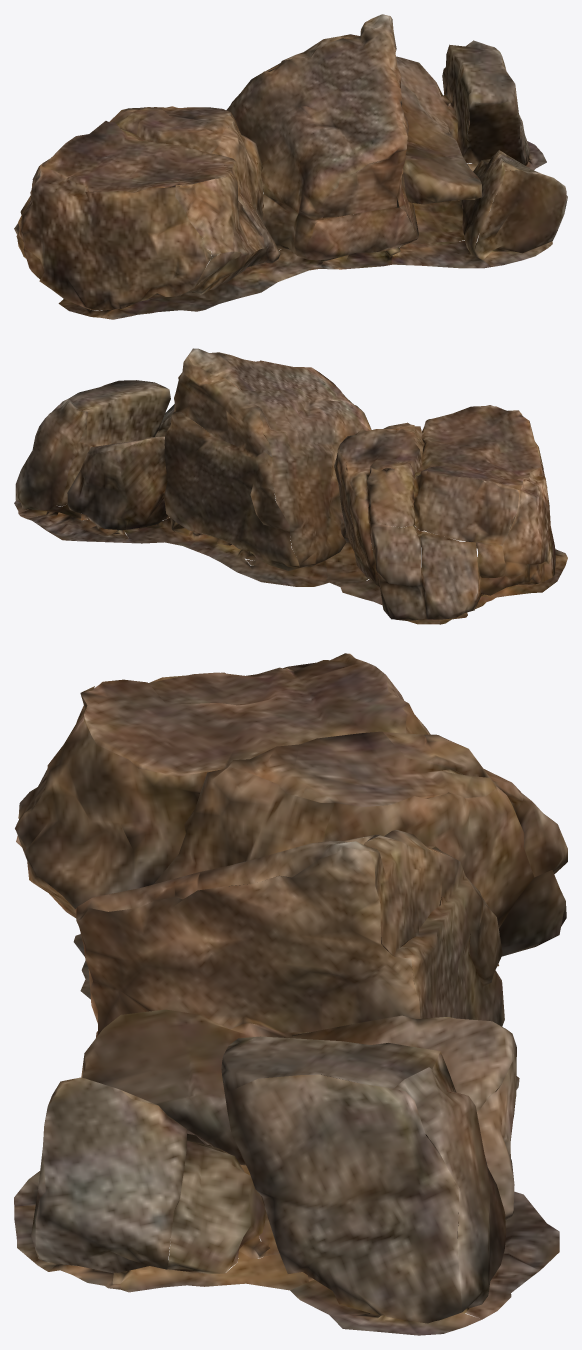
File: rock_a.glb
3 views of the same model, one above another, from view 1: azimuth 30°, elevation 25°; view 2: azimuth 150°, elevation 25°; view 3: azimuth 270°, elevation 25° (orthographic). The views are drawn at different scales.
Parts seen in each view (by area): view 1: boulder_02; view 2: boulder_02; view 3: boulder_02.
Part boxes in pixels (x1,y1,x2,y2): boulder_02: [14, 14, 567, 319]; boulder_02: [14, 348, 567, 624]; boulder_02: [14, 653, 567, 1335].
Bounding box in the file's own units: 2.52 × 0.8804 × 1.23.
1 material, 1 textured.
